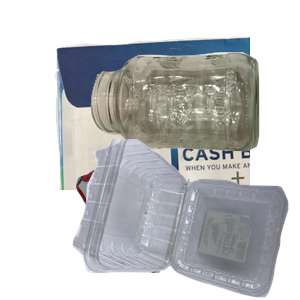glass: (88, 50, 300, 194)
paper: (52, 34, 292, 214)
plastic: (70, 139, 300, 300)
trash: (74, 167, 235, 300)
